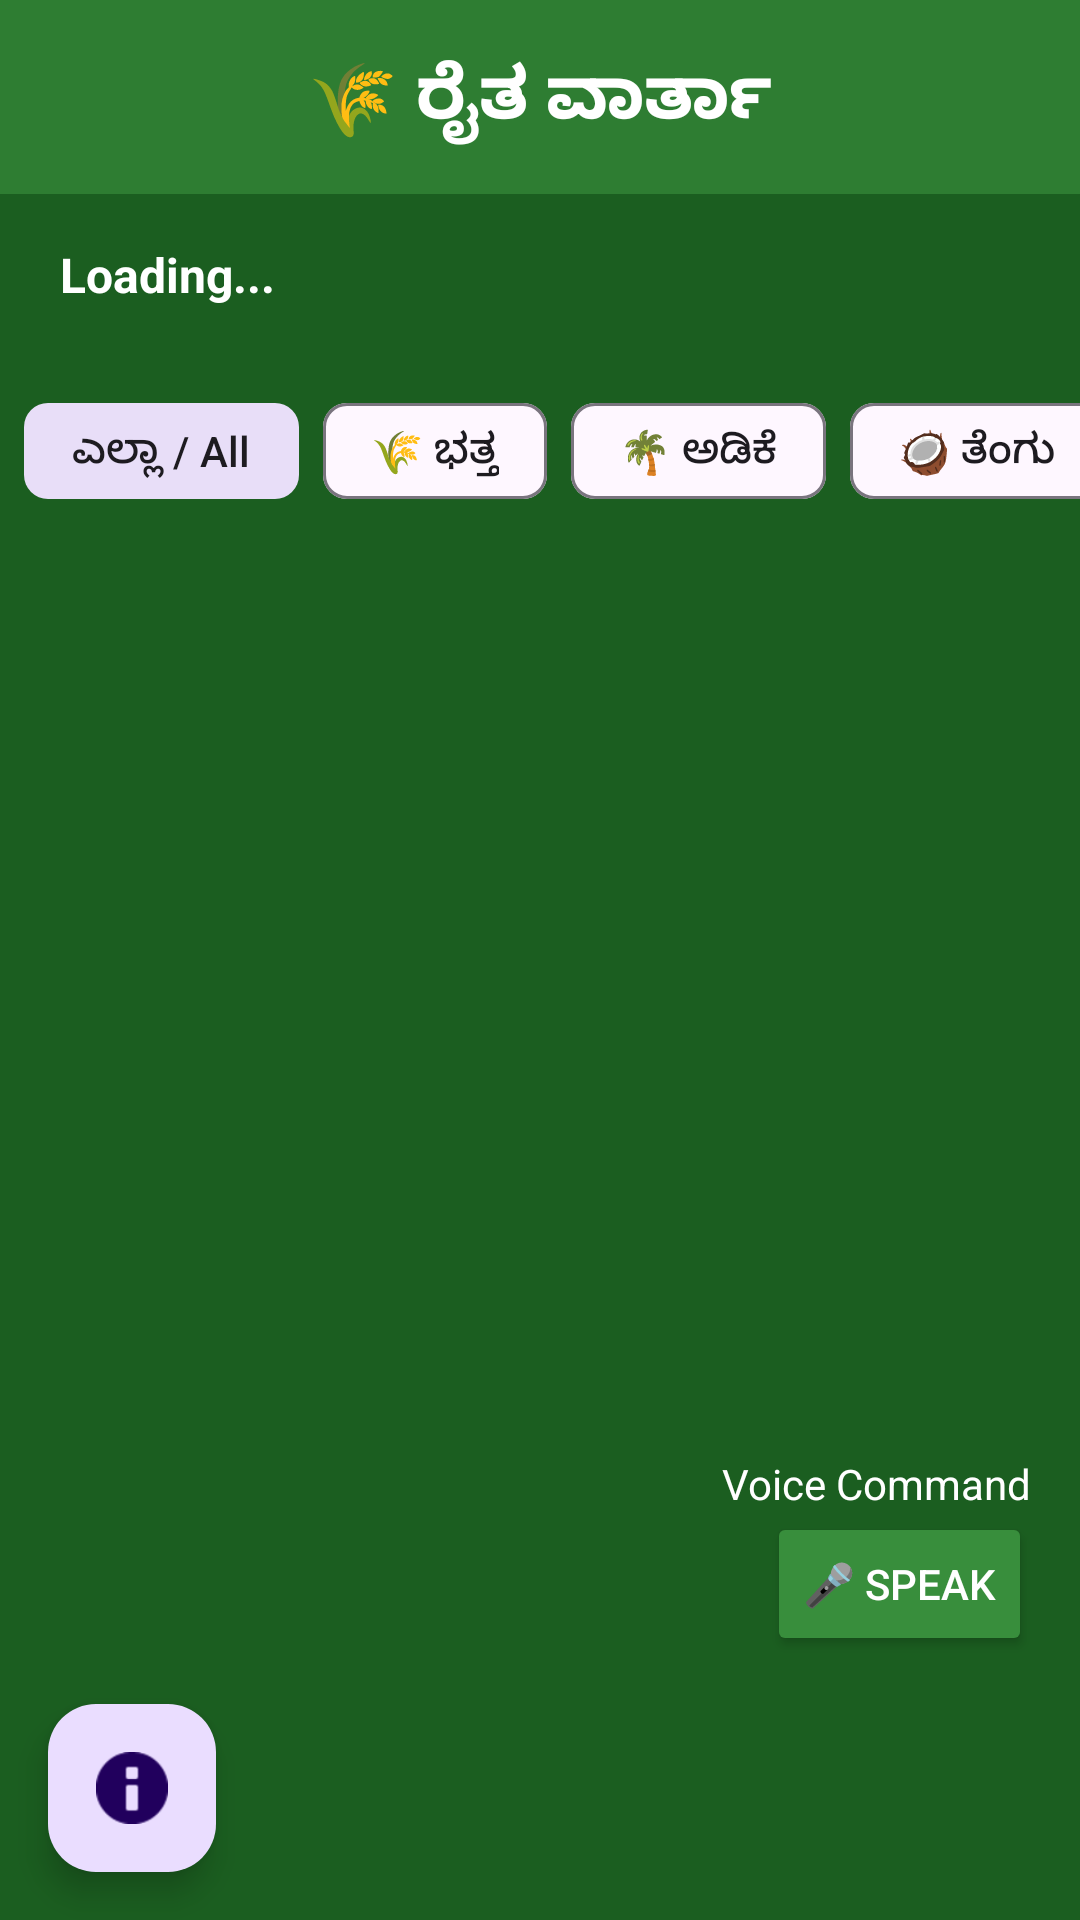

Icon bounding boxes for this 1080px x 1920px phone screenshot, format box(x1, y1, x2, y2):
info: box(48, 1704, 216, 1872)
